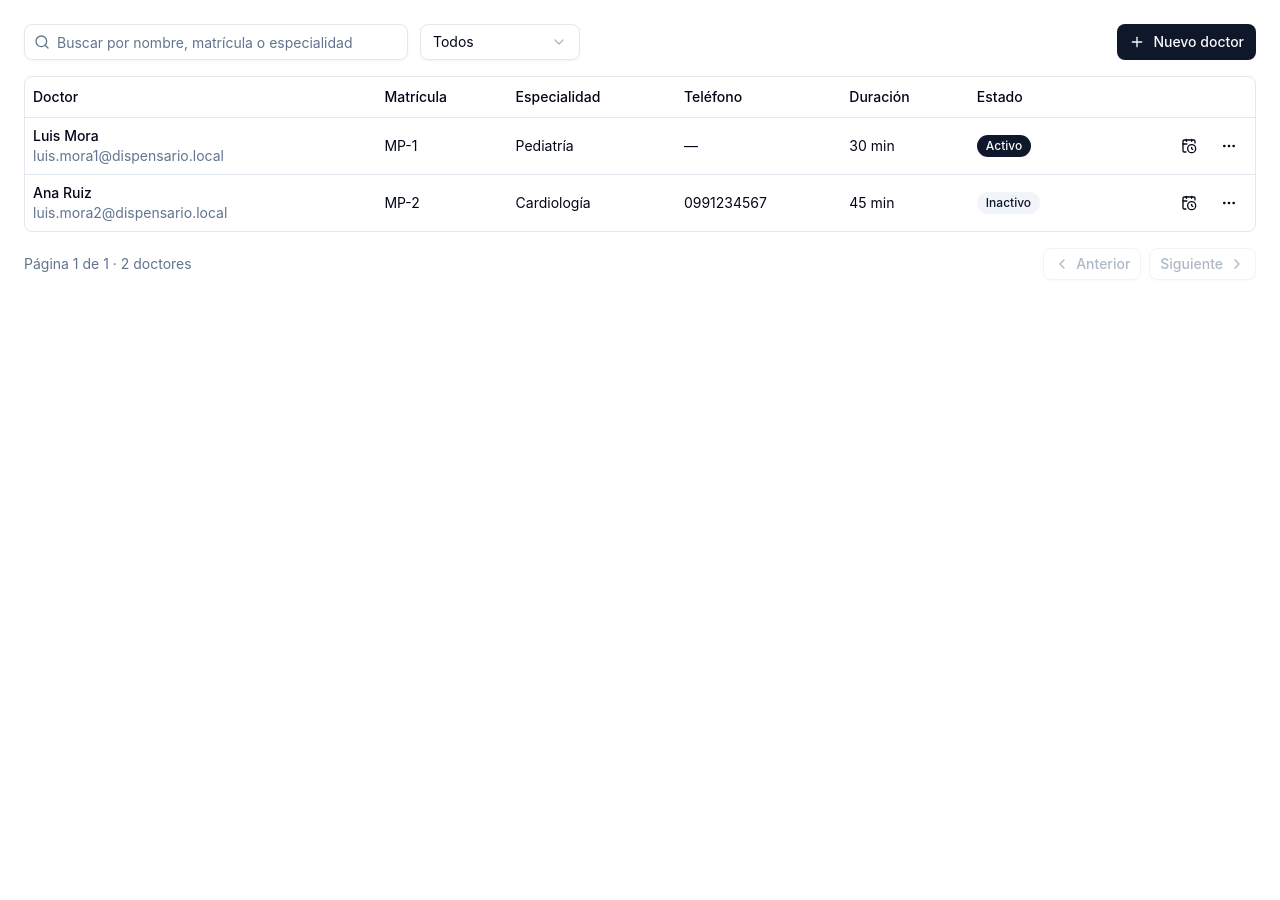
Test: DoctorsPage › closes the edition and refreshes when the doctor no longer exists
Check: the text "Luis Mora" is shown, box [33,126,99,144]
Click the button named "Más acciones de Luis Mora" at (1229, 146), box [1211,128,1247,164]
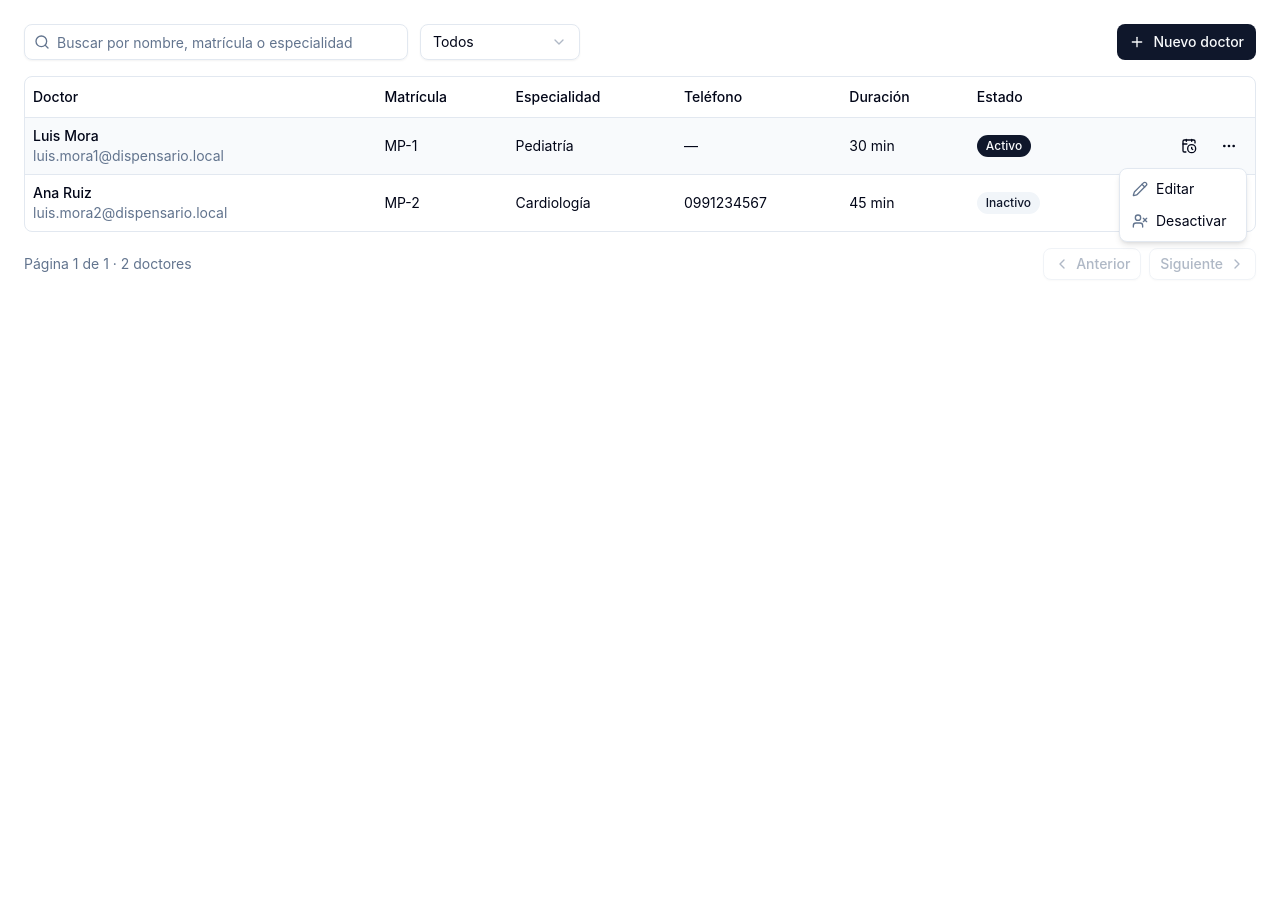
Click the menu item "Editar" at (1163, 188), box [1132,180,1194,197]
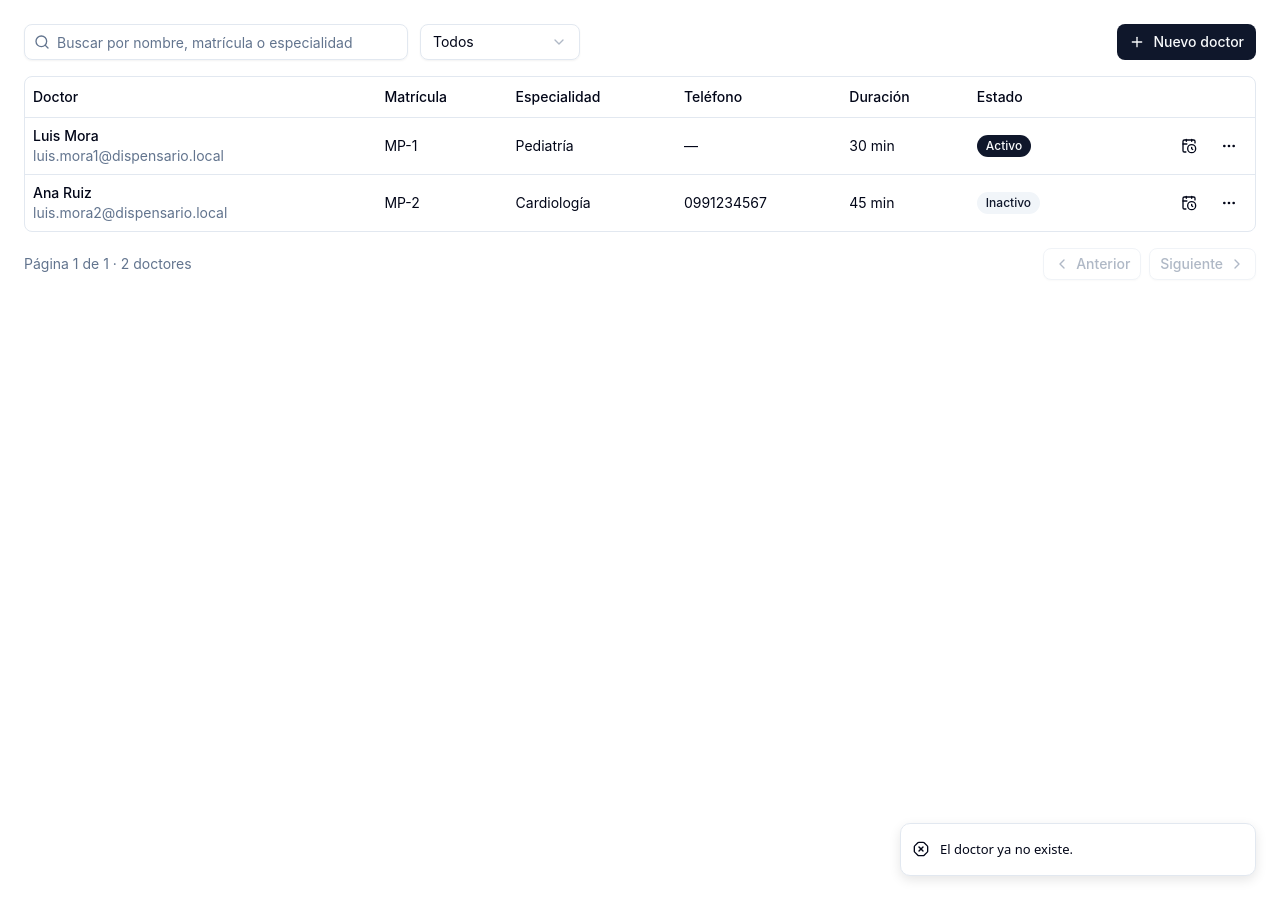
Check: the text "El doctor ya no existe." is shown, box [940,840,1073,859]
